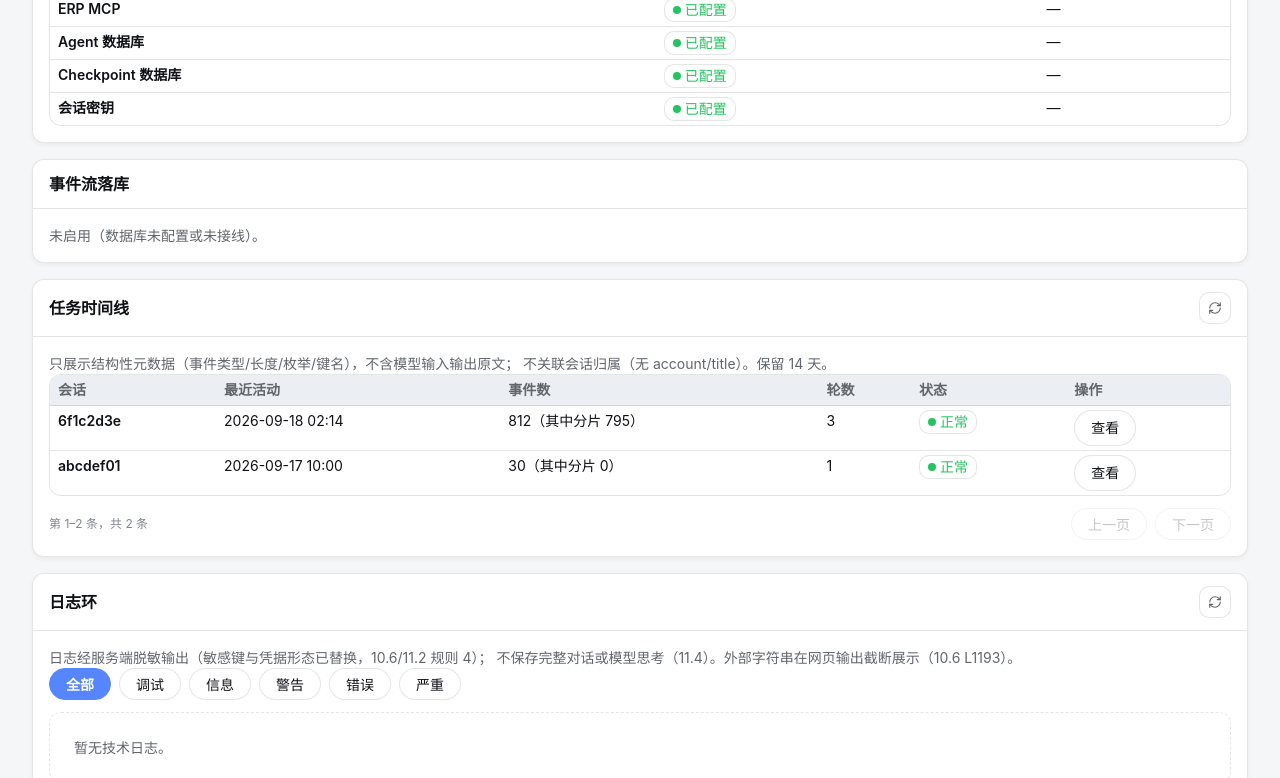
it: StreamTimelinePanel 任务时间线 › 33 三个新事件类型渲染中文标签，不出现「未知事件类型」
(page scrolled)
Click the button "查看" in the row of "6f1c2d3e".
click(1105, 428)  # box [1074,410,1136,446]
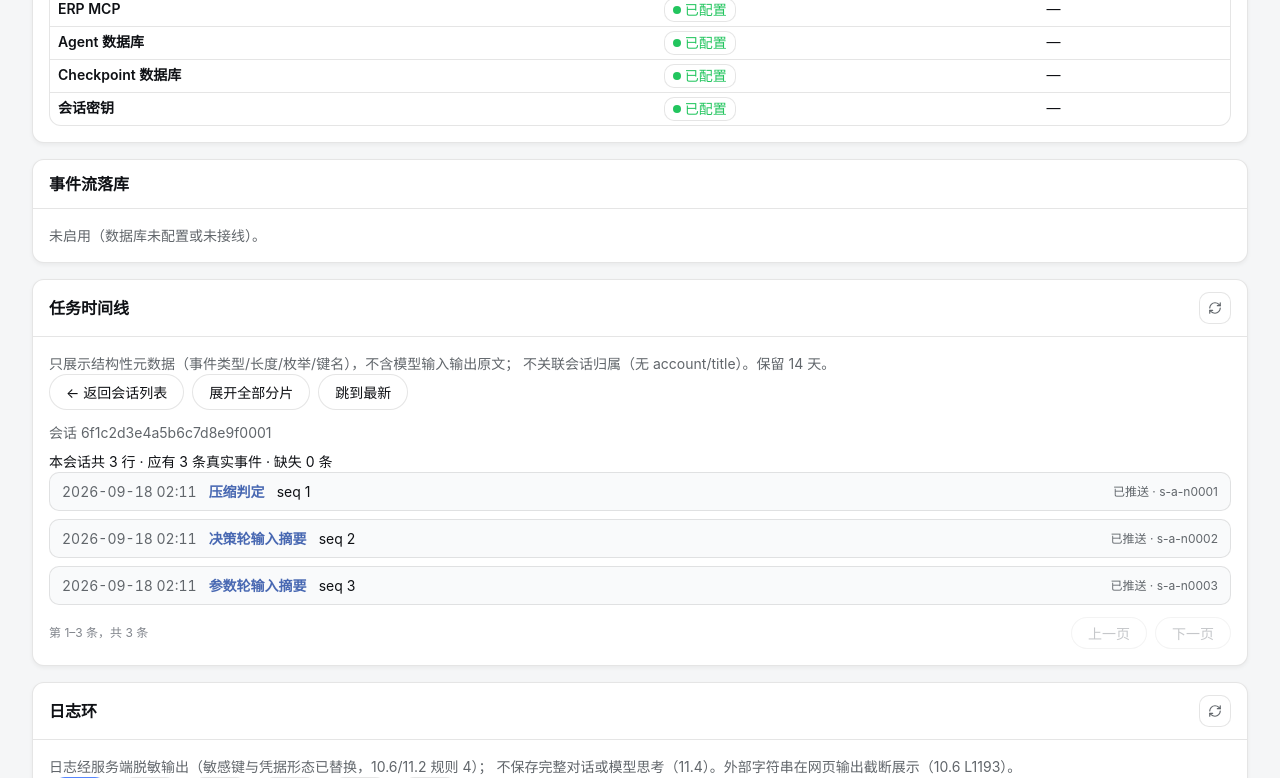
Result: the button "← 返回会话列表" is shown at [49,374,184,410]
Result: the text "压缩判定" is shown at [205,481,269,502]
Result: the text "决策轮输入摘要" is shown at [205,528,311,549]
